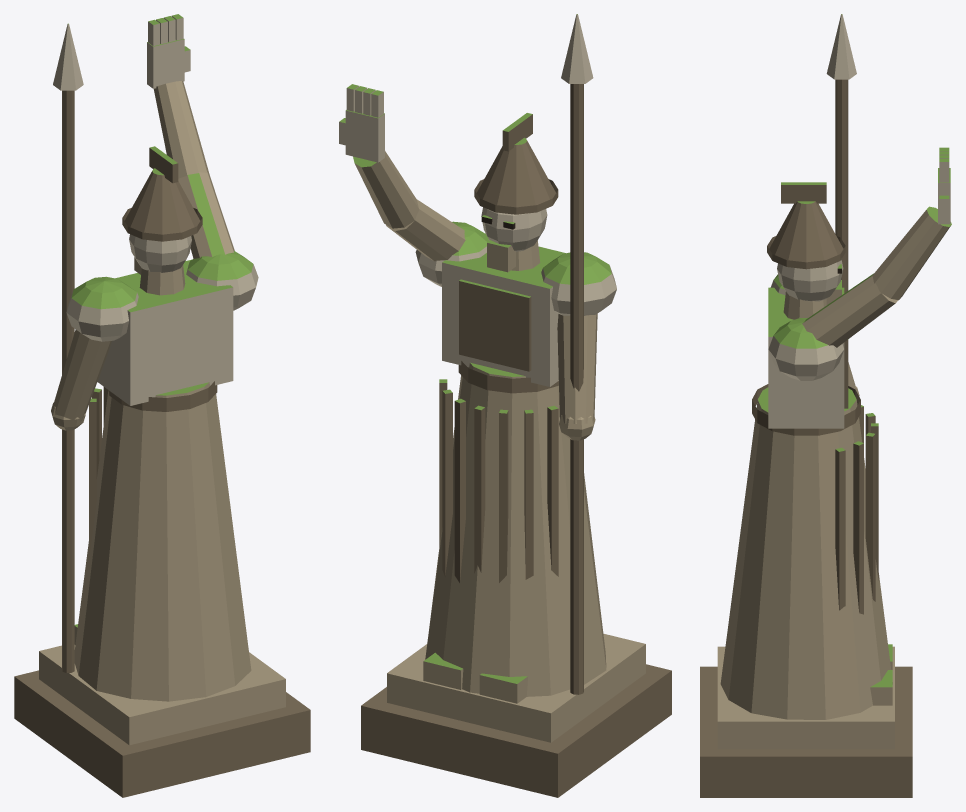
The model's file is colosso_estatua.glb.
The picture shows the model from 3 angles, left to right: view 1: azimuth 30°, elevation 25°; view 2: azimuth 150°, elevation 25°; view 3: azimuth 270°, elevation 25°; orthographic projection. The views are drawn at different scales.
Parts seen in each view (by area): view 1: colosso_estatua; view 2: colosso_estatua; view 3: colosso_estatua.
Part boxes in pixels (bbox=[...]): colosso_estatua: bbox=[14, 14, 310, 797]; colosso_estatua: bbox=[339, 14, 671, 797]; colosso_estatua: bbox=[700, 14, 951, 797].
Size of the model in its own units: 84.95 by 306 by 99.48.
